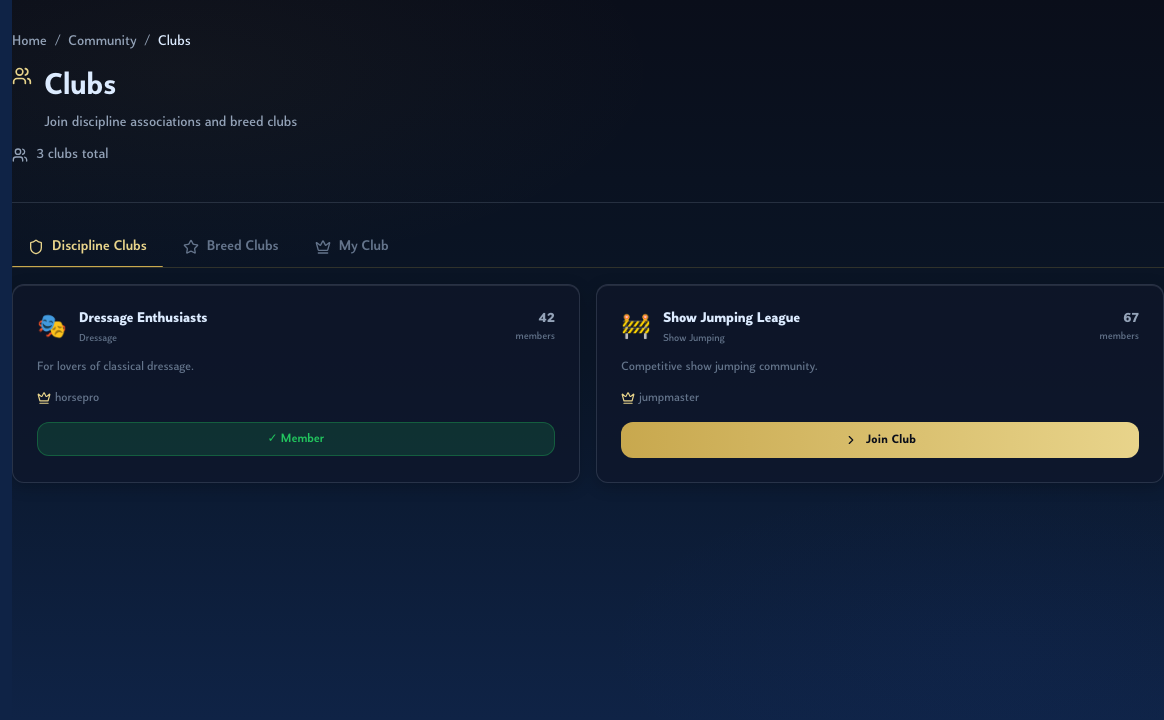
Test: ClubsPage › switches to breed tab and shows breed clubs from the boundary
What coordinates should you click on to do the following:
click the tab with test id "tab-breed"
I would click on:
 (231, 247)
Its box is [167,227,295,267].
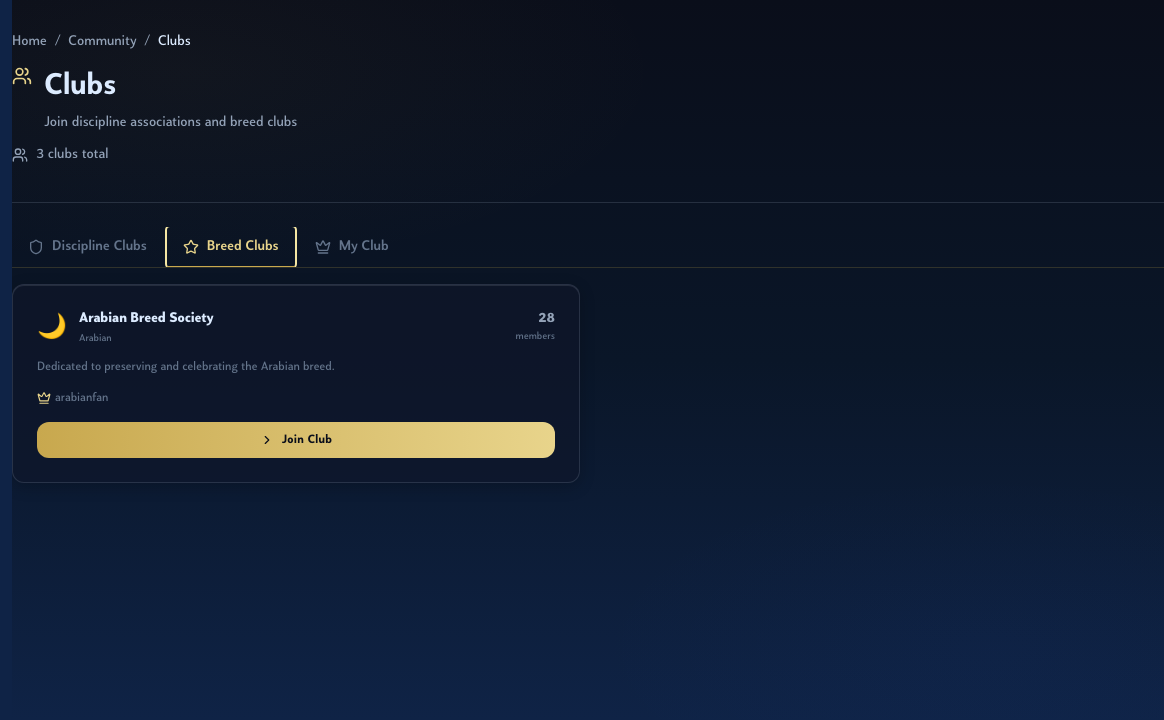
expect the element with test id "club-card-11" is shown: met, box [12,284,580,482]
expect the heading "Arabian Breed Society" is shown: met, box [79,309,214,329]
